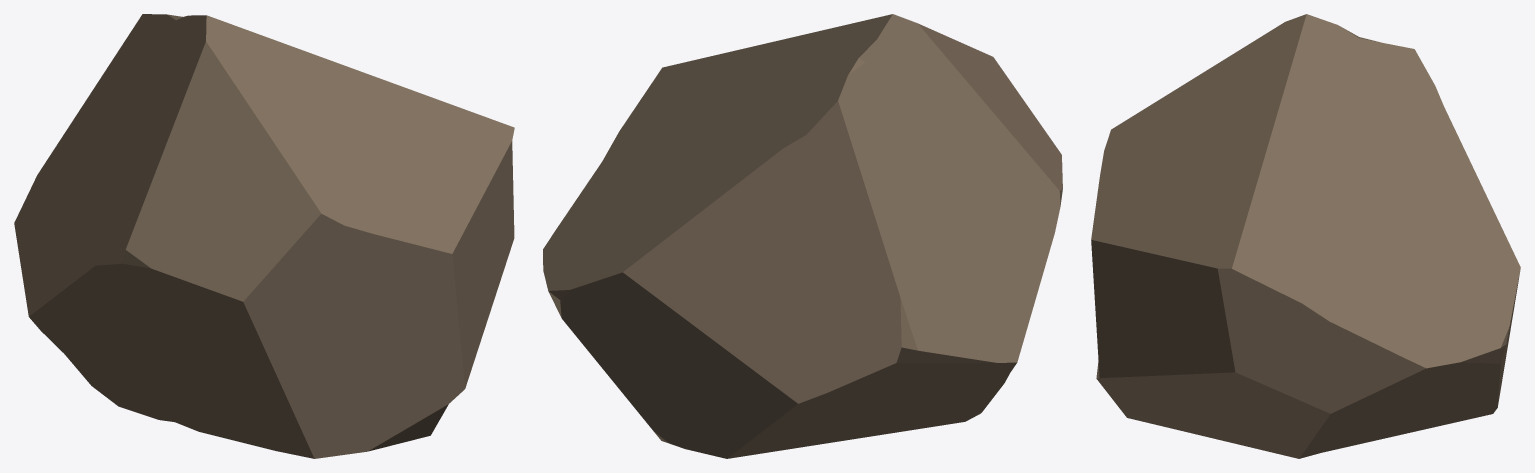
Rendered from rock_2.fbx.
The picture shows the model from 3 angles, left to right: view 1: azimuth 30°, elevation 25°; view 2: azimuth 150°, elevation 25°; view 3: azimuth 270°, elevation 25°; orthographic projection. The views are drawn at different scales.
Parts seen in each view (by area): view 1: rock_2; view 2: rock_2; view 3: rock_2.
Part boxes in pixels (x1,y1,x2,y2): rock_2: (14,14,514,458); rock_2: (543,14,1062,458); rock_2: (1091,14,1520,458).
Bounding box in the file's own units: 1.78 × 1.52 × 1.69.
